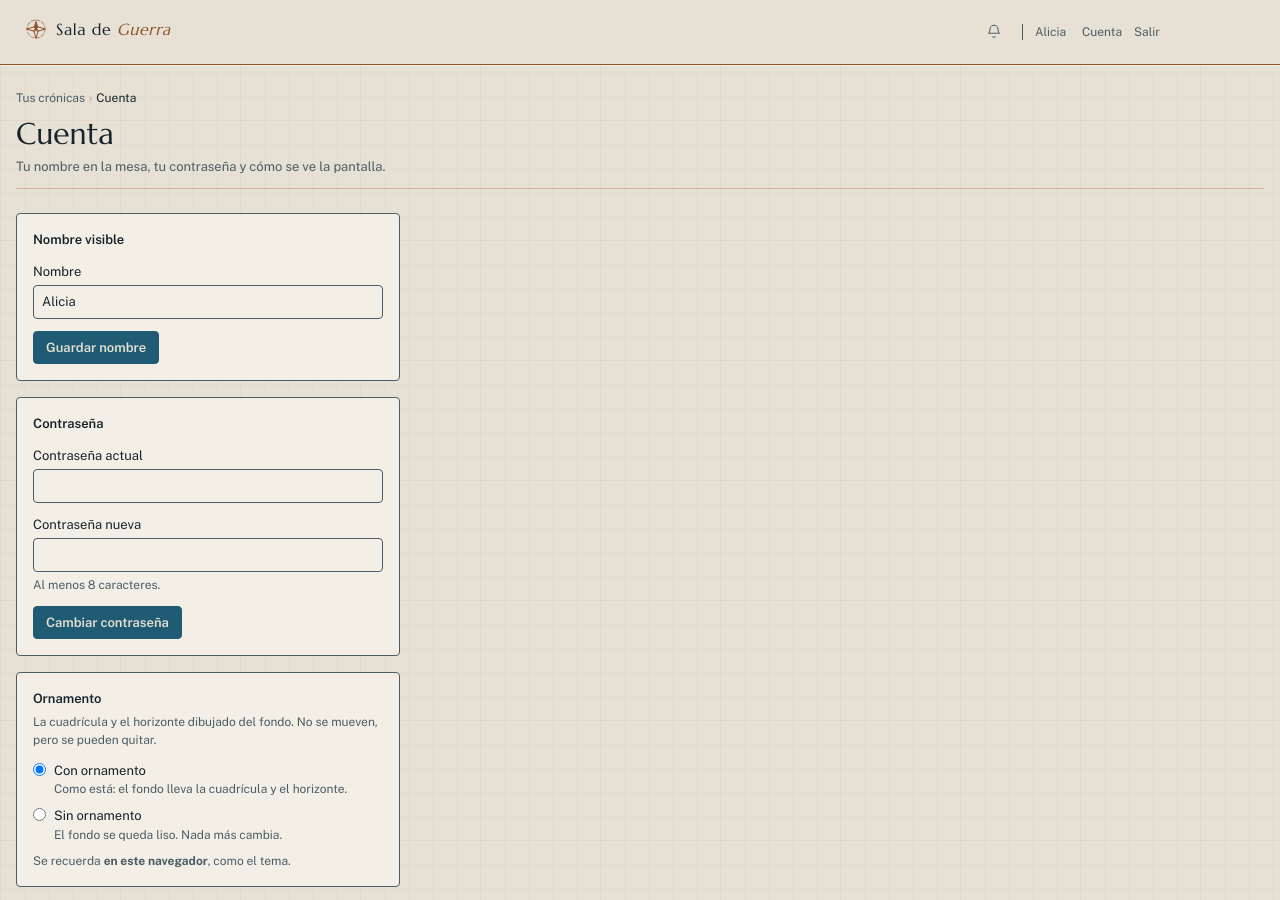
AccountPage › translates a rate-limit response instead of showing Throttler's raw message
In the password field labelled "Contraseña actual": (208, 486) [33,469,383,502], type "password123"
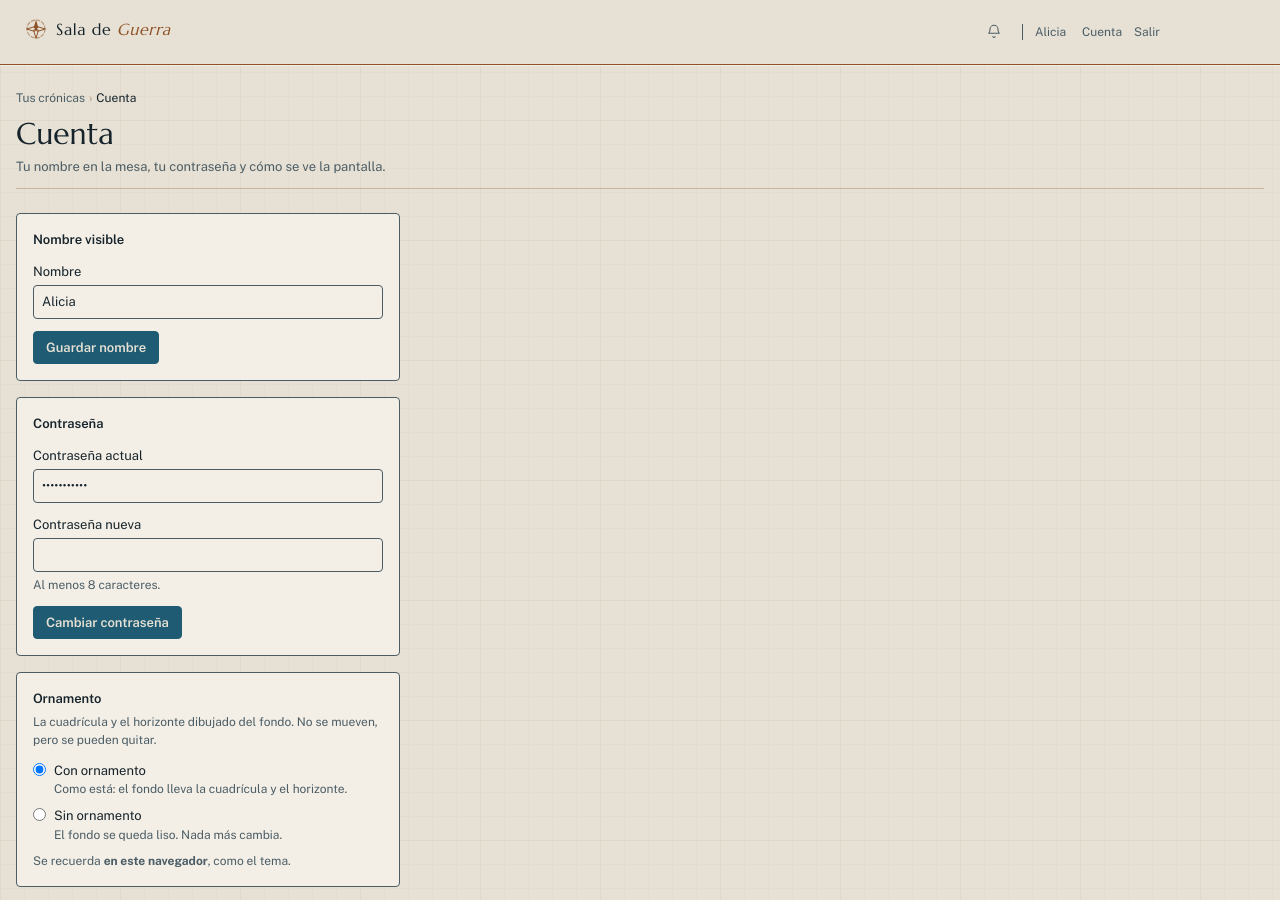
In the password field labelled "Contraseña nueva": (208, 555) [33,538,383,572], type "newpassword123"
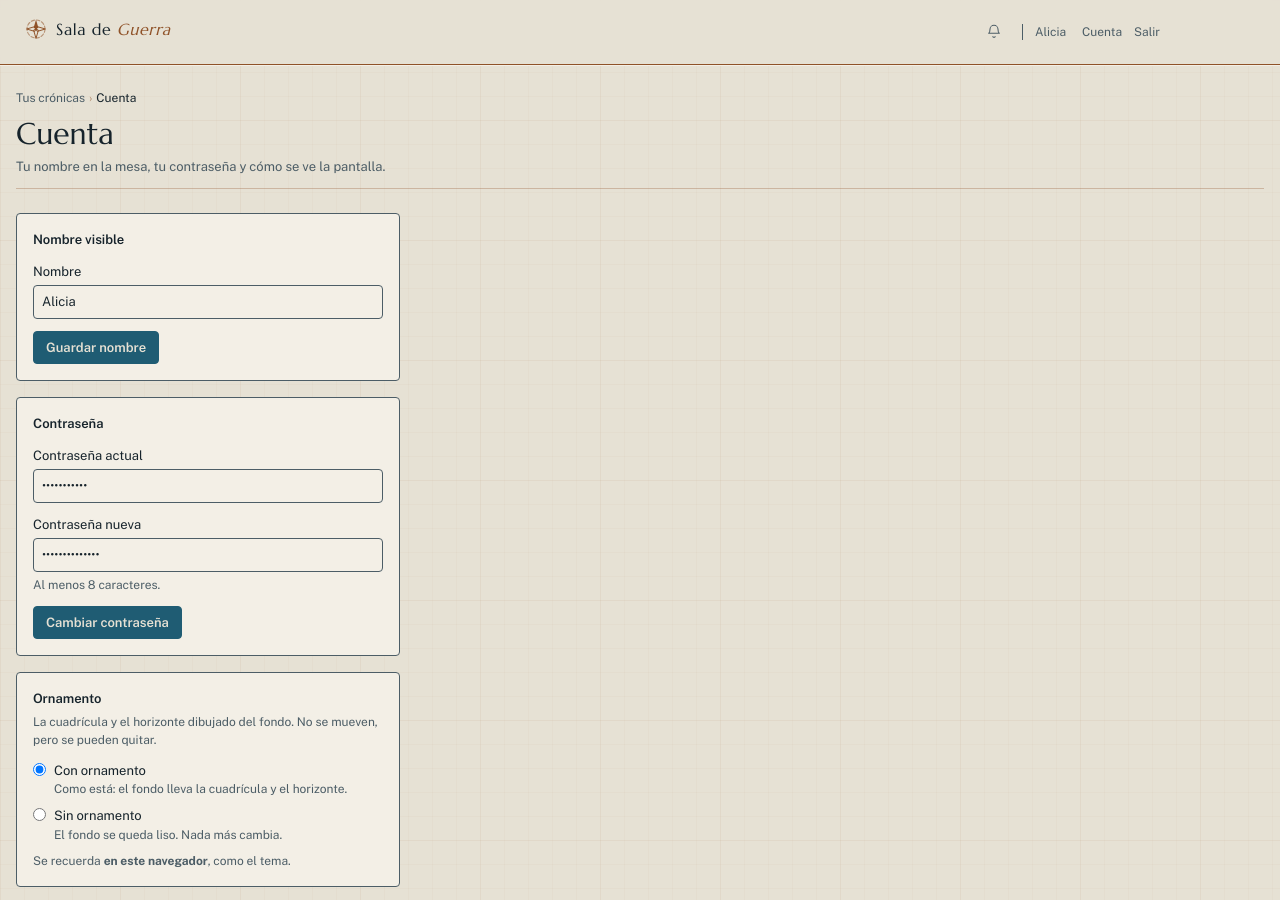
Click the button "Cambiar contraseña": (107, 622) [33,606,182,639]
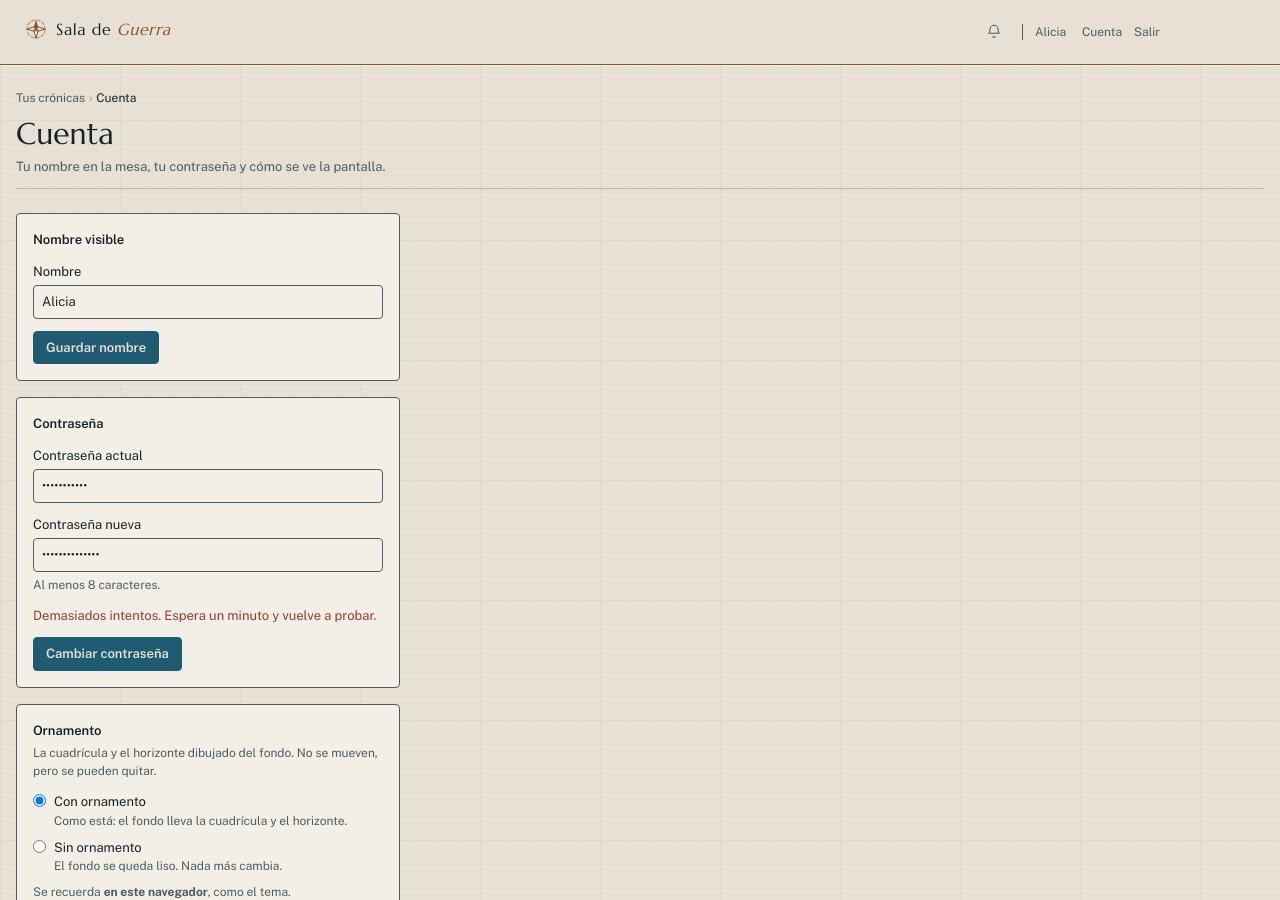
Check: the message reads "Demasiados intentos. Espera un minuto y vuelve a probar.", box [33,608,376,622]
